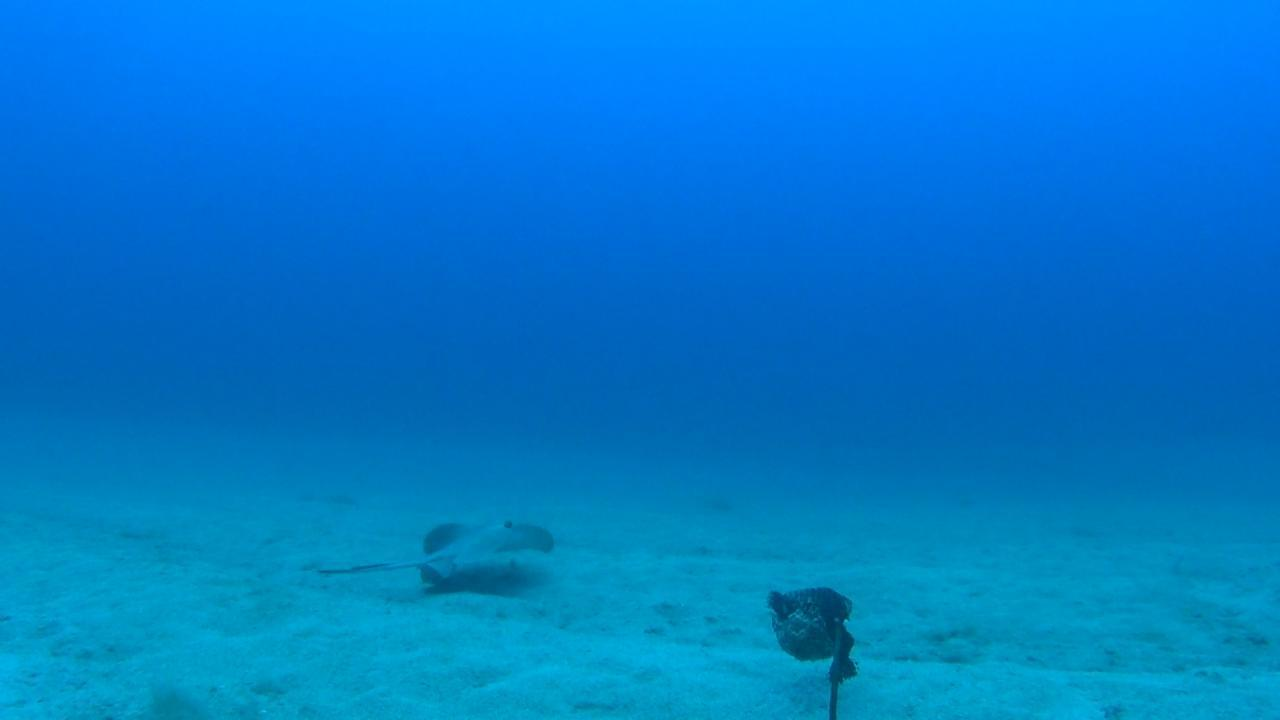dasyatis: (316, 518, 554, 587)
